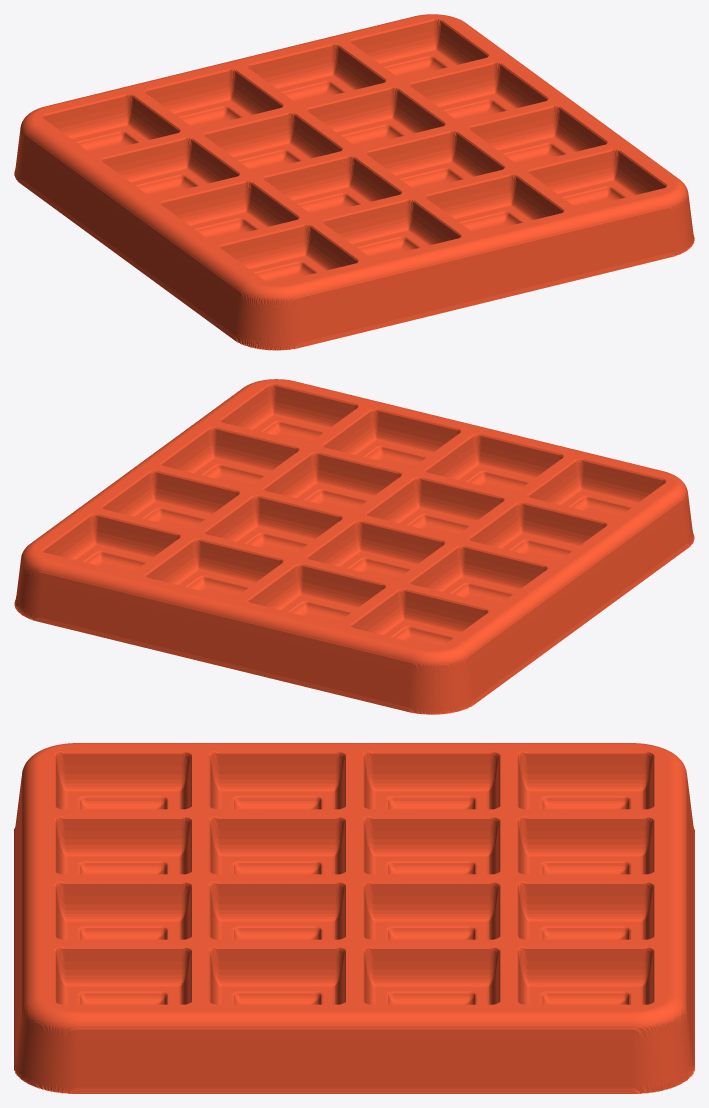
Rendered from mold.glb.
3 renders of one model, top to bottom at view 1: azimuth 30°, elevation 25°; view 2: azimuth 150°, elevation 25°; view 3: azimuth 270°, elevation 25°, orthographic. The views are drawn at different scales.
Parts seen in each view (by area): view 1: geometry_0; view 2: geometry_0; view 3: geometry_0.
Part boxes in pixels (x1,y1,x2,y2): geometry_0: (14, 14, 694, 350); geometry_0: (14, 379, 694, 714); geometry_0: (14, 743, 694, 1093).
Size of the model in its own units: 0.0972 by 0.0114 by 0.0972.
